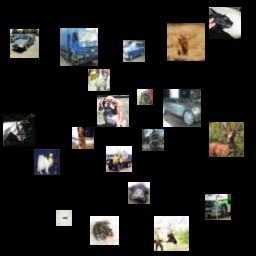airplane: (56, 210, 72, 226)
automobile: (163, 89, 201, 127), (10, 29, 39, 58), (123, 40, 145, 62)
bird: (128, 182, 150, 204)
cat: (209, 7, 241, 39), (88, 69, 110, 91)
deer: (167, 23, 205, 61), (154, 216, 189, 251), (209, 122, 244, 157)
dog: (97, 95, 129, 127), (34, 149, 60, 175), (72, 127, 94, 149), (137, 89, 153, 105)
frog: (90, 216, 119, 245)
truck: (60, 28, 98, 66), (205, 194, 231, 220), (106, 146, 132, 172), (142, 129, 164, 151)
